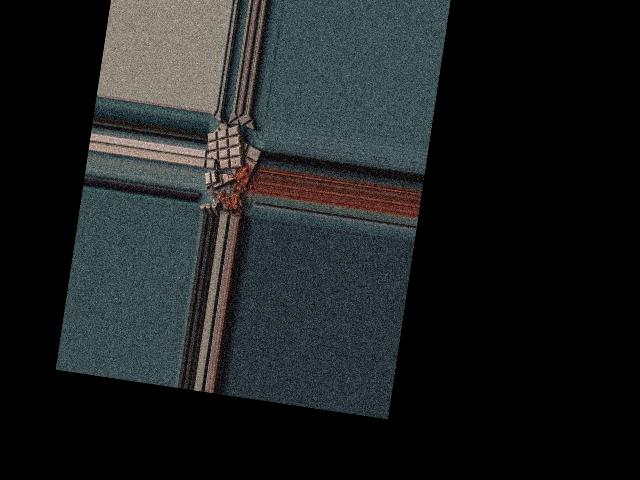chocolate: (203, 119, 248, 171)
